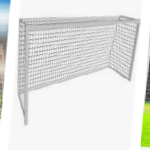goals: (17, 14, 141, 126)
